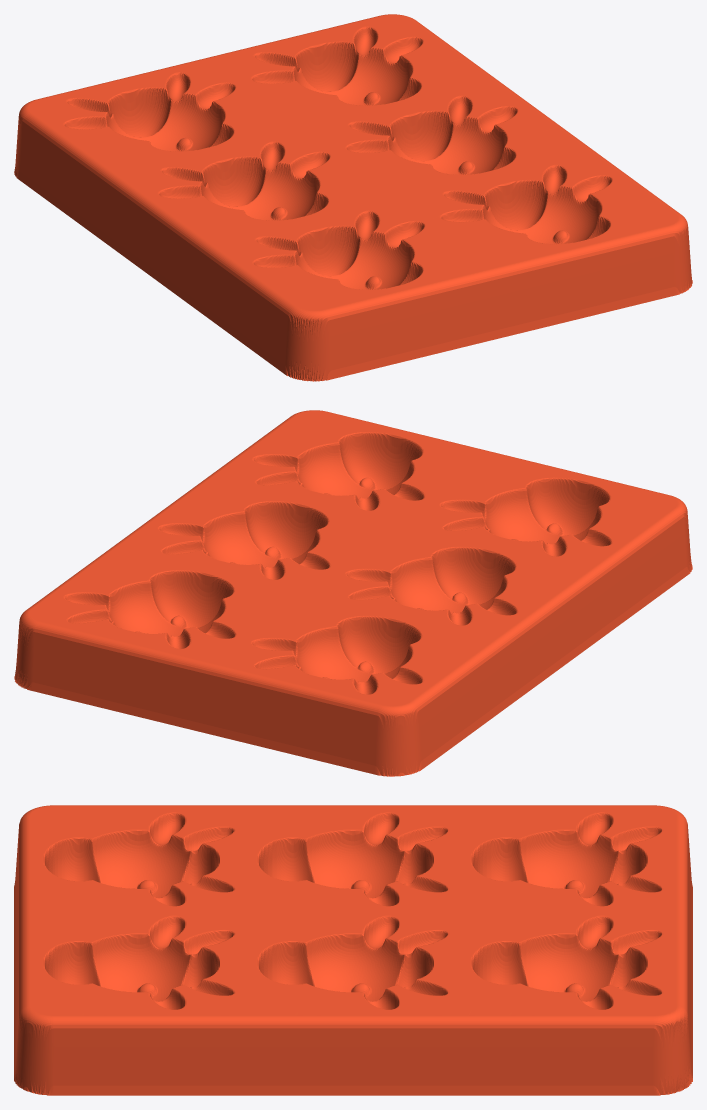
Rendered from mold.glb.
The picture shows the model from 3 angles, top to bottom: view 1: azimuth 30°, elevation 25°; view 2: azimuth 150°, elevation 25°; view 3: azimuth 270°, elevation 25°; orthographic projection. The views are drawn at different scales.
Visible parts, largest first — view 1: geometry_0; view 2: geometry_0; view 3: geometry_0.
Boxes of the visible parts, left/top/right/bottom form: geometry_0: left=14, top=14, right=692, bottom=381; geometry_0: left=14, top=410, right=692, bottom=776; geometry_0: left=14, top=805, right=692, bottom=1095.
Bounding box in the file's own units: 0.121 × 0.0185 × 0.1558.
